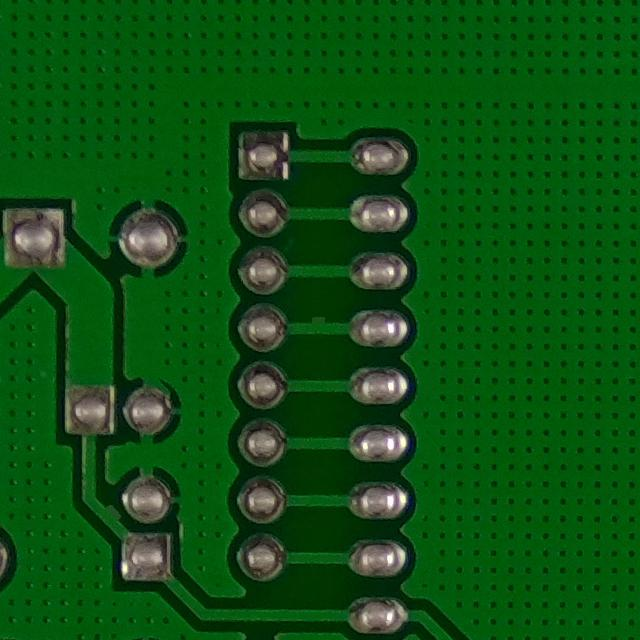spur: (300, 303, 341, 337)
